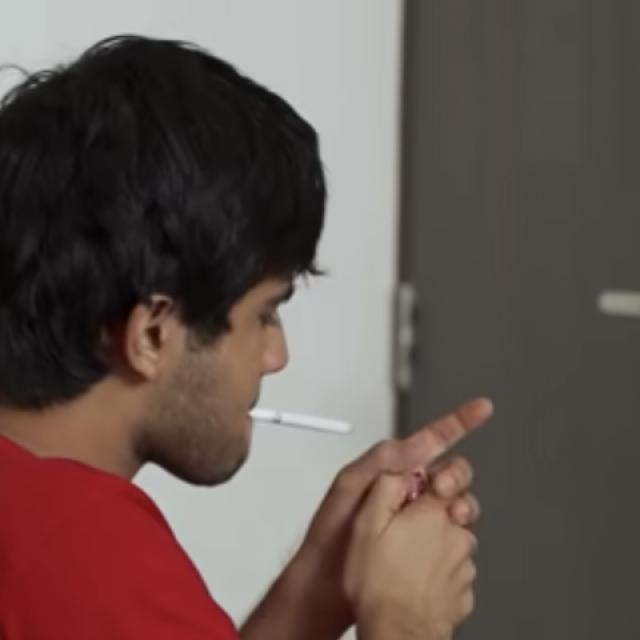cigarette: (260, 393, 354, 457)
